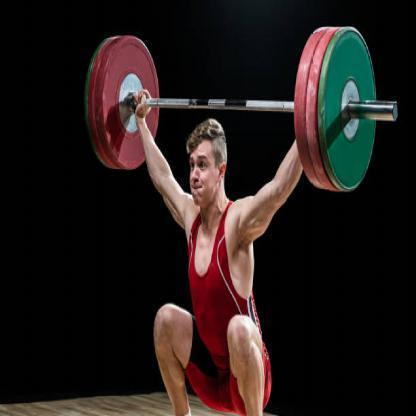barbell: (80, 27, 398, 194)
